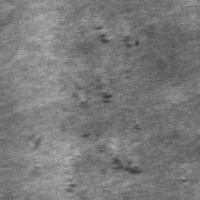rolled-in_scale: (58, 80, 143, 185), (88, 18, 141, 53)
